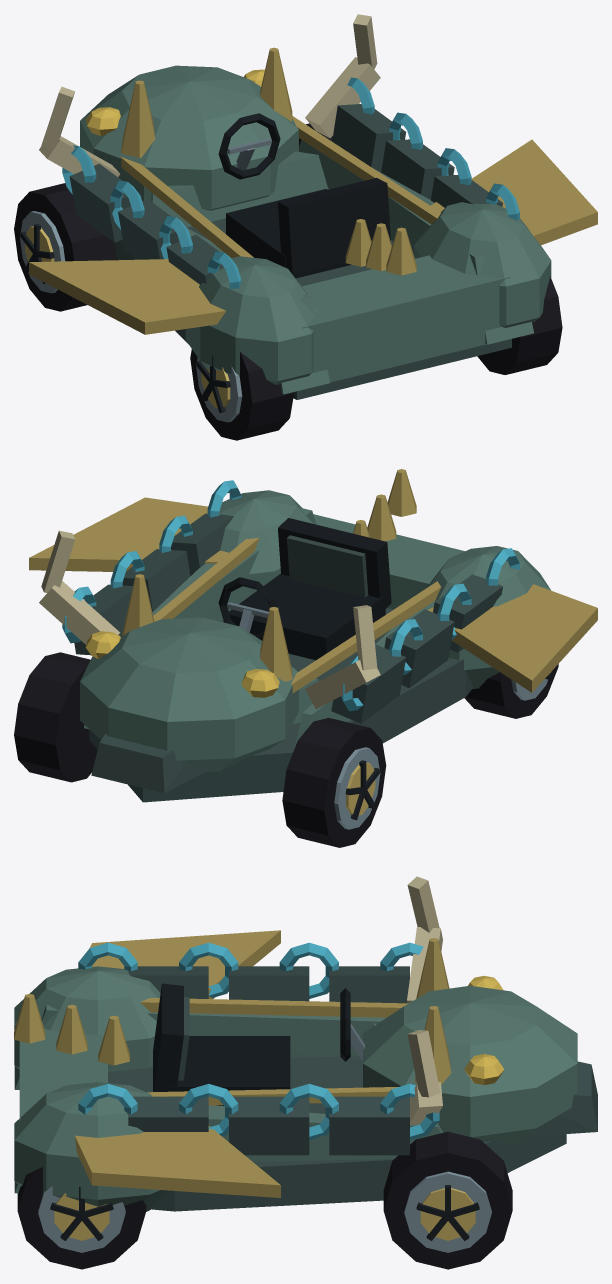
File: kart.glb
3 renders of one model, top to bottom at view 1: azimuth 30°, elevation 25°; view 2: azimuth 150°, elevation 25°; view 3: azimuth 270°, elevation 25°, orthographic. The views are drawn at different scales.
Parts seen in each view (by area): view 1: identity-dragon-dragon-sculpted-prow-and-haunches, identity-dragon-motif-armor, identity-dragon-driver-cockpit, wheel-front-left, wheel-rear-left, identity-dragon-motif-water, identity-dragon-motif-horns, wheel-rear-right; view 2: identity-dragon-dragon-sculpted-prow-and-haunches, identity-dragon-driver-cockpit, identity-dragon-motif-armor, wheel-front-left, wheel-front-right, identity-dragon-motif-horns, identity-dragon-motif-water, wheel-rear-left; view 3: identity-dragon-dragon-sculpted-prow-and-haunches, identity-dragon-motif-armor, wheel-front-right, identity-dragon-driver-cockpit, identity-dragon-motif-water, wheel-rear-right, identity-dragon-motif-horns.
Part boxes in pixels (x1=…): identity-dragon-dragon-sculpted-prow-and-haunches: x1=29, y1=47, x2=597, y2=399; identity-dragon-motif-armor: x1=69, y1=104, x2=502, y2=284; identity-dragon-driver-cockpit: x1=218, y1=113, x2=390, y2=278; wheel-front-left: x1=14, y1=183, x2=117, y2=311; wheel-rear-left: x1=190, y1=349, x2=293, y2=440; identity-dragon-motif-water: x1=62, y1=77, x2=519, y2=288; identity-dragon-motif-horns: x1=39, y1=14, x2=380, y2=176; wheel-rear-right: x1=477, y1=276, x2=562, y2=374; identity-dragon-dragon-sculpted-prow-and-haunches: x1=29, y1=469, x2=597, y2=802; identity-dragon-driver-cockpit: x1=218, y1=518, x2=391, y2=660; identity-dragon-motif-armor: x1=74, y1=513, x2=502, y2=723; wheel-front-left: x1=282, y1=718, x2=386, y2=847; wheel-front-right: x1=14, y1=652, x2=97, y2=782; identity-dragon-motif-horns: x1=39, y1=530, x2=380, y2=709; identity-dragon-motif-water: x1=62, y1=480, x2=519, y2=711; wheel-rear-left: x1=464, y1=664, x2=558, y2=718; identity-dragon-dragon-sculpted-prow-and-haunches: x1=14, y1=930, x2=597, y2=1211; identity-dragon-motif-armor: x1=128, y1=966, x2=409, y2=1155; wheel-front-right: x1=383, y1=1131, x2=512, y2=1269; identity-dragon-driver-cockpit: x1=153, y1=983, x2=364, y2=1106; identity-dragon-motif-water: x1=78, y1=942, x2=439, y2=1139; wheel-rear-right: x1=17, y1=1167, x2=146, y2=1269; identity-dragon-motif-horns: x1=407, y1=876, x2=442, y2=1124.
Bounding box in the file's own units: 3 × 1.29 × 2.9.
